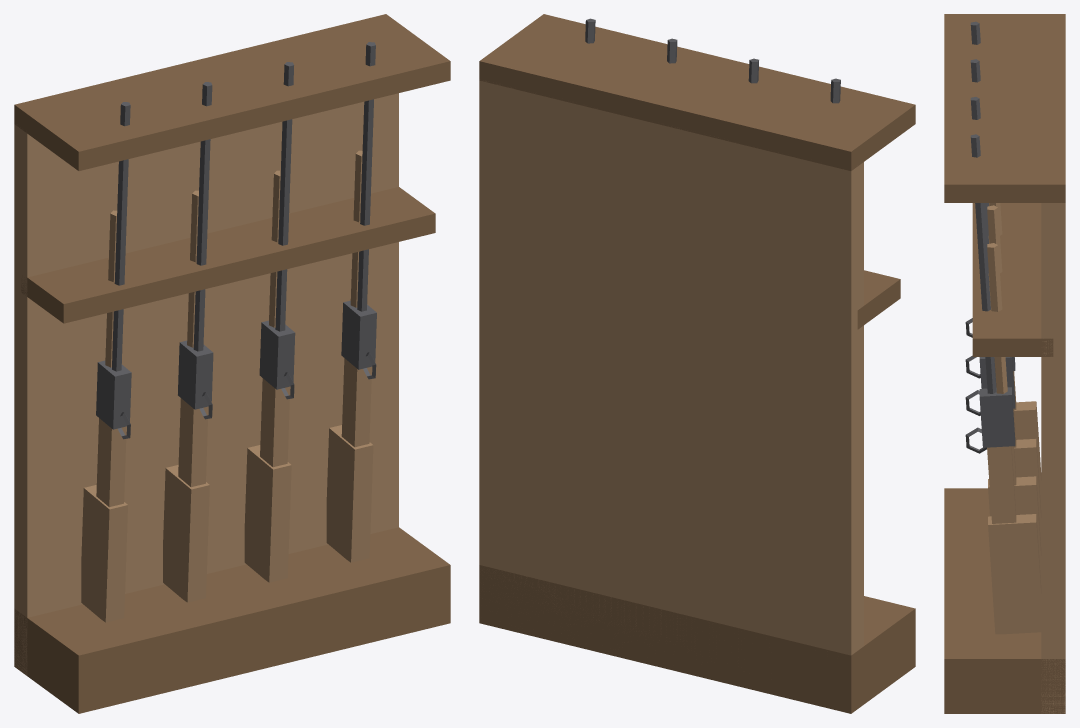
Rendered from SM_Gun_Rack.glb.
3 views of the same model, side by side, from view 1: azimuth 30°, elevation 25°; view 2: azimuth 150°, elevation 25°; view 3: azimuth 270°, elevation 25° (orthographic). The views are drawn at different scales.
Visible parts, largest first — view 1: SM_Gun_Rack; view 2: SM_Gun_Rack; view 3: SM_Gun_Rack.
Part boxes in pixels (box(x1,y1,x2,y2)): SM_Gun_Rack: box(14, 14, 450, 713); SM_Gun_Rack: box(479, 14, 915, 713); SM_Gun_Rack: box(944, 14, 1065, 713).
Size of the model in its own units: 1 by 1.5 by 0.3.
